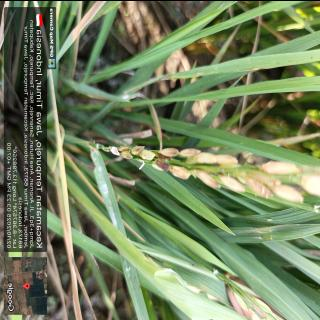Busuk-Bulir: (156, 159, 170, 170), (131, 145, 145, 154), (156, 153, 172, 159), (121, 150, 133, 158), (118, 145, 131, 150)
